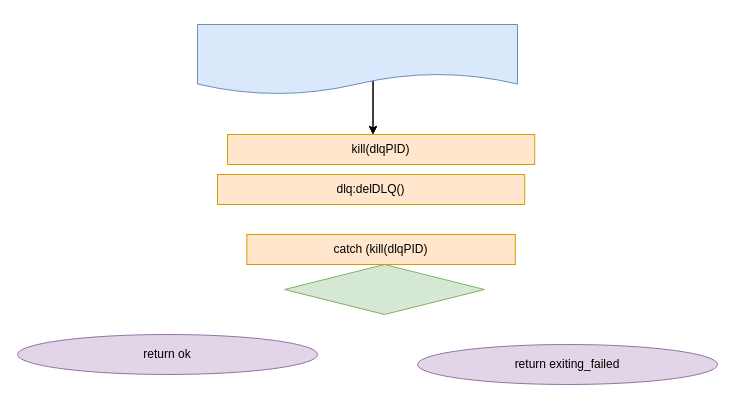
Some shapes in this 736 by 402 pixel diagram are drawn without their labels. Each missing label, with the box of its shape:
erfolgreich?: (284, 264, 484, 314)
Start von {request, dellHBQ} Rückgabewert: bei Erfolg wird ok zurückgeliefert: (196, 24, 518, 94)
